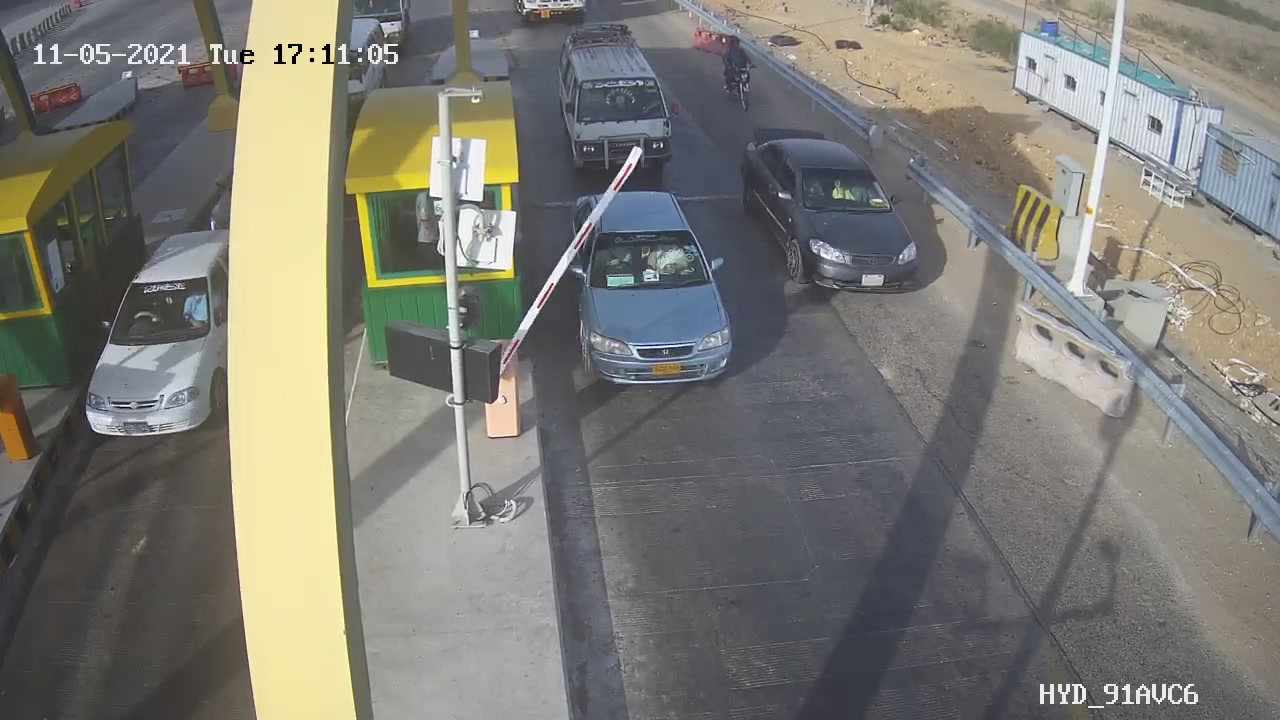F1: (548, 173, 751, 408), (729, 118, 937, 309)
F2: (534, 24, 680, 186)
